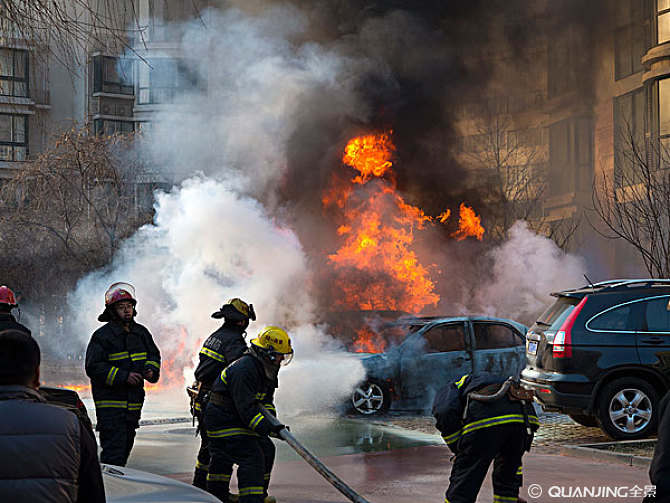fire: (310, 118, 488, 316)
